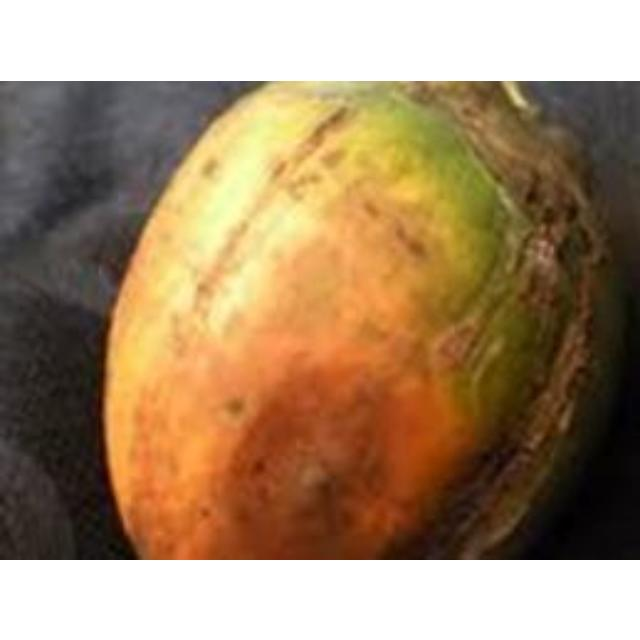damaged: (99, 80, 623, 557)
